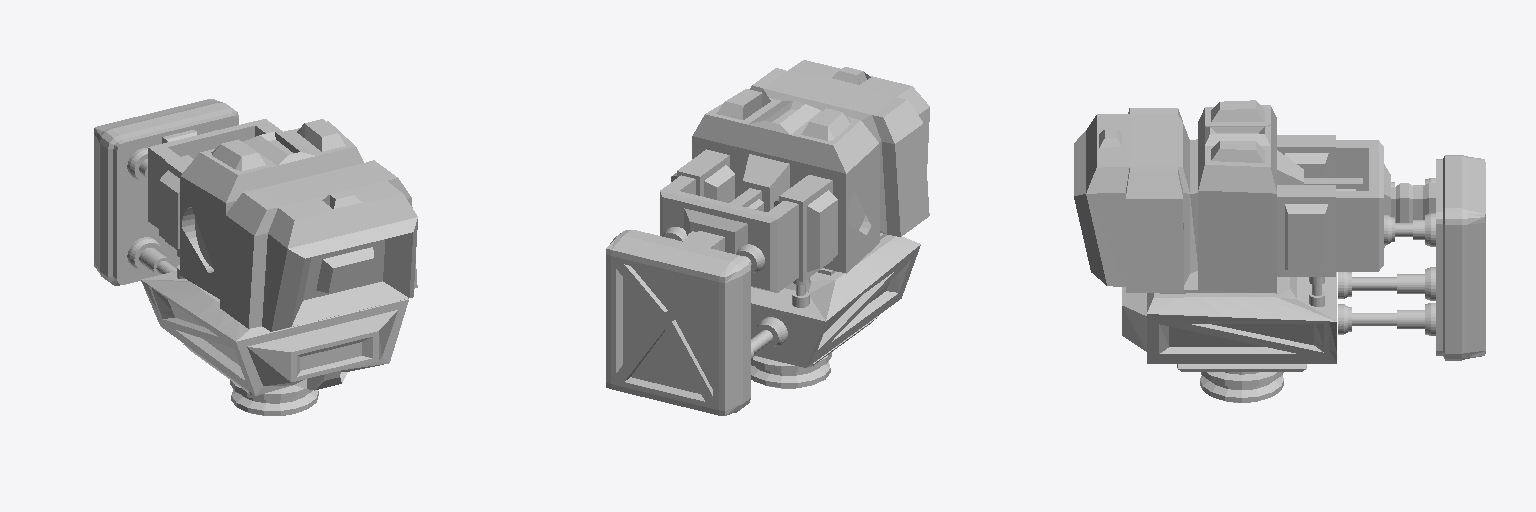
Rendered from body.obj.
3 renders of one model, left to right at view 1: azimuth 30°, elevation 25°; view 2: azimuth 150°, elevation 25°; view 3: azimuth 270°, elevation 25°, orthographic.
Visible parts, largest first — view 1: body_Cube.002; view 2: body_Cube.002; view 3: body_Cube.002.
Boxes of the visible parts, x1,y1,x2,y2 form: body_Cube.002: [94, 99, 417, 415]; body_Cube.002: [606, 60, 929, 415]; body_Cube.002: [1074, 100, 1485, 402].
Size of the model in its own units: 0.5921 by 0.8652 by 1.22.